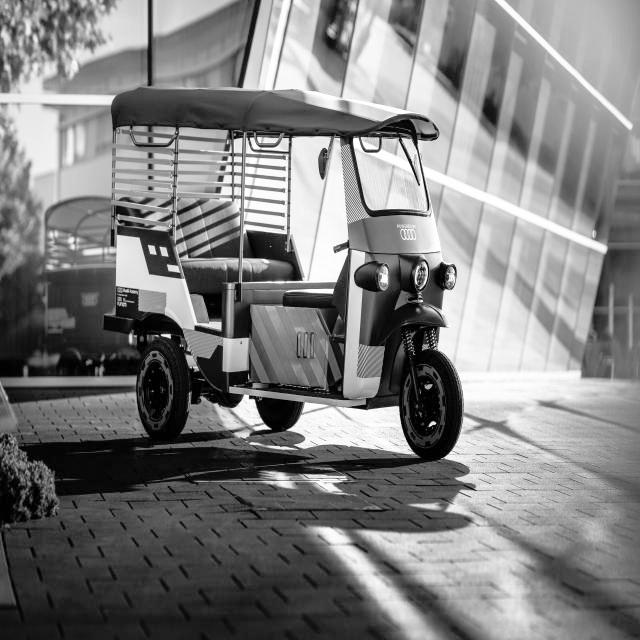Toto: (111, 78, 469, 460)
